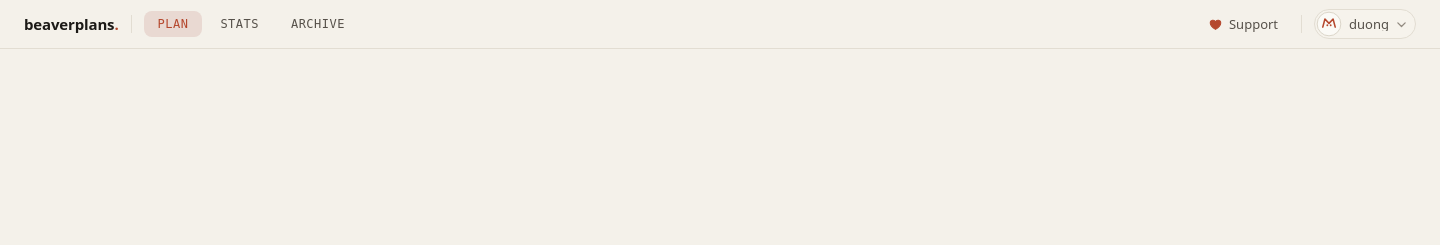
TopBar › the dropdown carries the two account actions, each closing it
Click the button with aria-label "you@example.com" at (1365, 24), box [1314,9,1416,39]
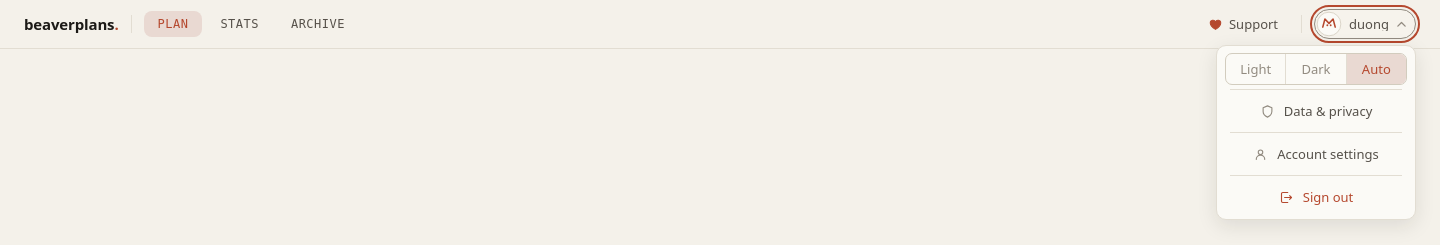
Click the menu item "Account settings" at (1316, 154), box [1222,137,1410,171]
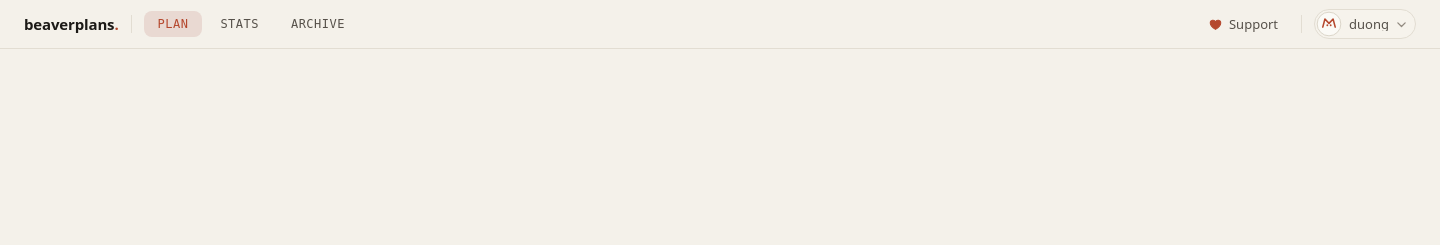
Check: the menu is gone
Click the button with aria-label "you@example.com" at (1365, 24), box [1314,9,1416,39]
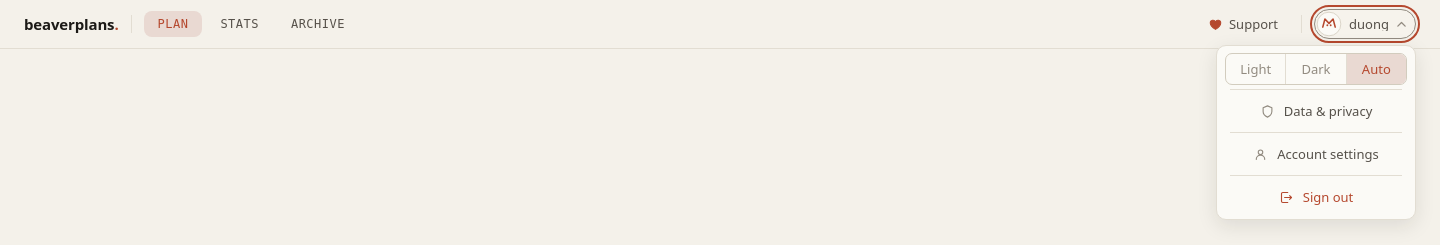
Click the menu item "Sign out" at (1316, 197), box [1222,180,1410,214]
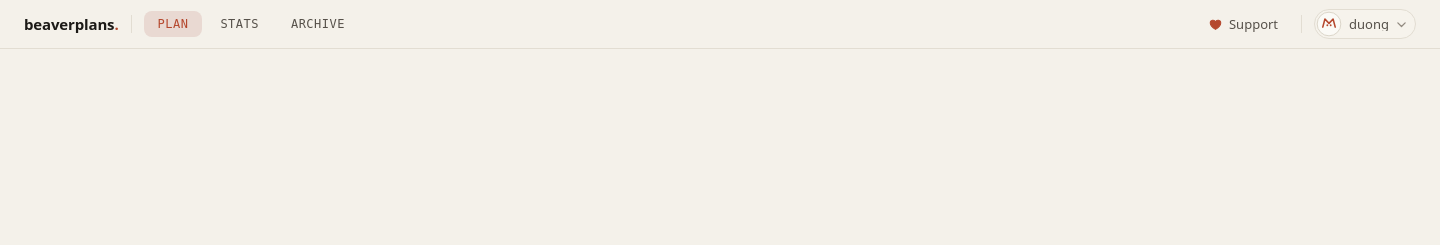
Check: the menu is gone
